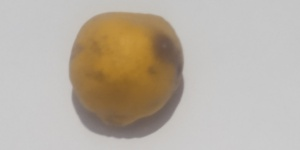BAD: (72, 10, 186, 123)
